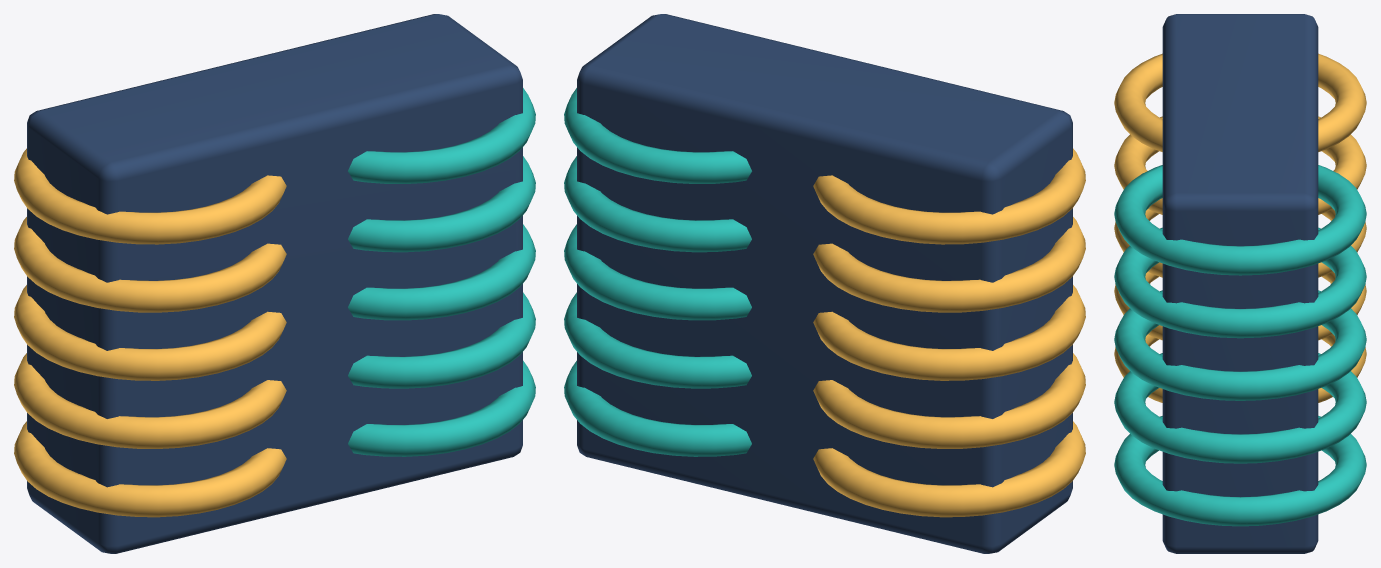
The model's file is transformer-lite.glb.
3 renders of one model, left to right at view 1: azimuth 30°, elevation 25°; view 2: azimuth 150°, elevation 25°; view 3: azimuth 270°, elevation 25°, orthographic. The views are drawn at different scales.
Parts seen in each view (by area): view 1: Core; view 2: Core; view 3: Core.
Part boxes in pixels (<box>): Core: <box>14,14,535,553</box>; Core: <box>564,14,1085,553</box>; Core: <box>1114,14,1366,553</box>.
Size of the model in its own units: 1.49 by 1.15 by 0.73.
